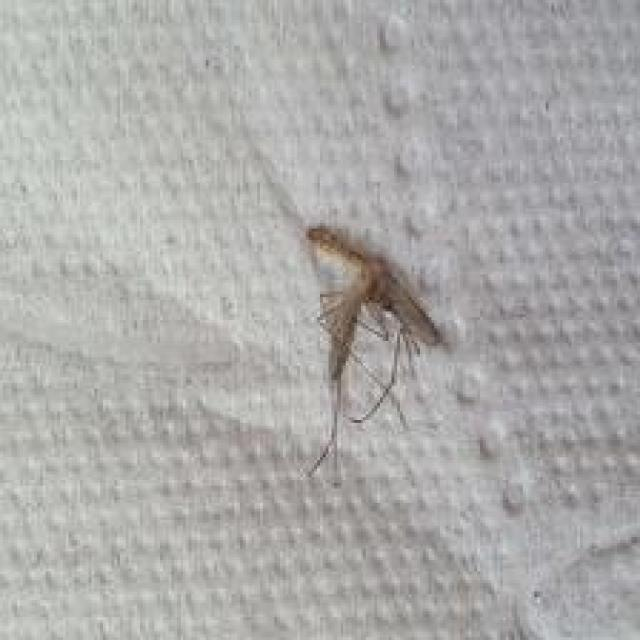Culex: (233, 114, 453, 486)
